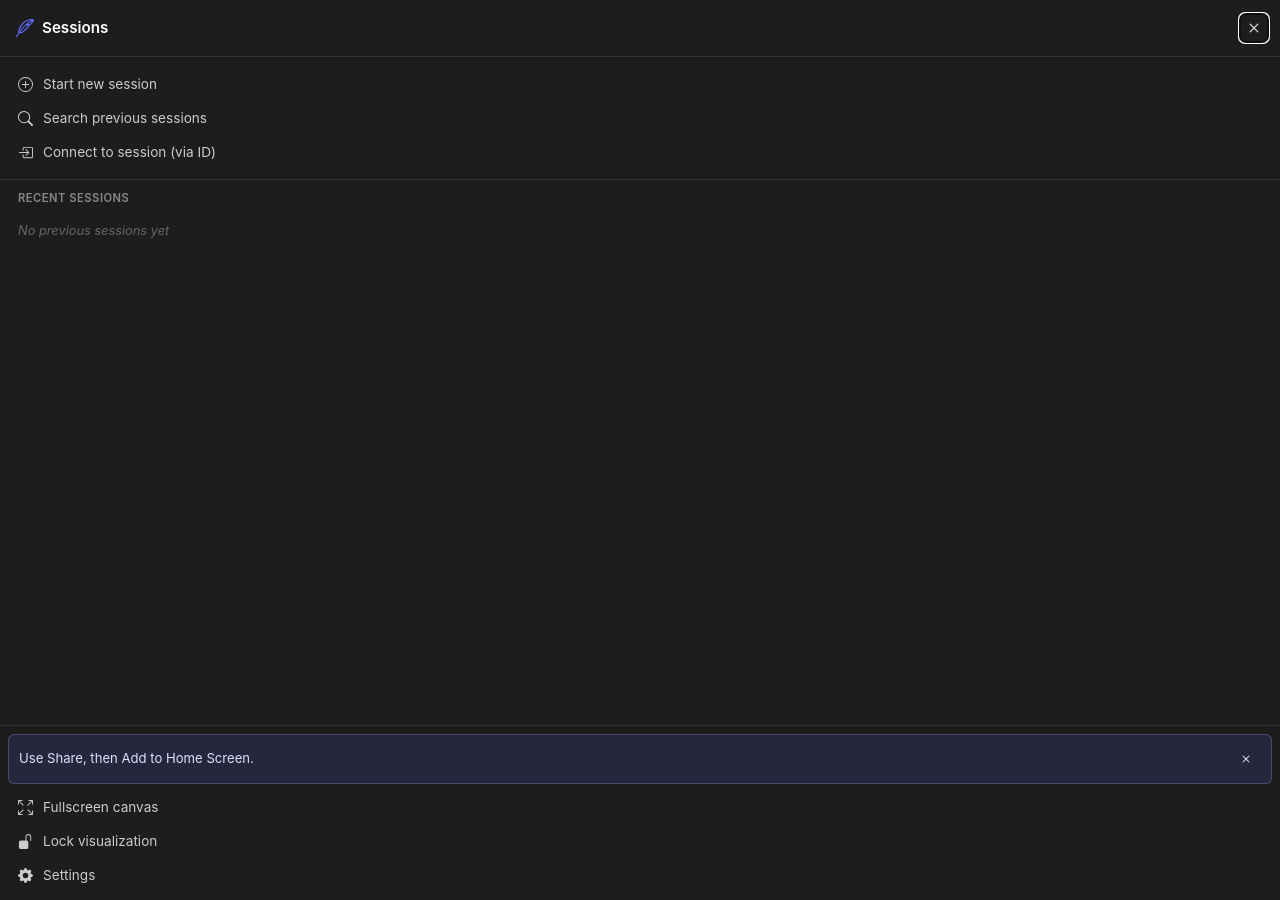
Test: SessionDrawer mobile overlay › shows a one-time iOS Add to Home Screen hint in the mobile menu
Expected: the text "Use Share, then Add to Home Screen." is shown, [19, 750, 254, 766]
Click the button named "Dismiss install hint".
click(1246, 759)  # box [1231, 744, 1261, 774]
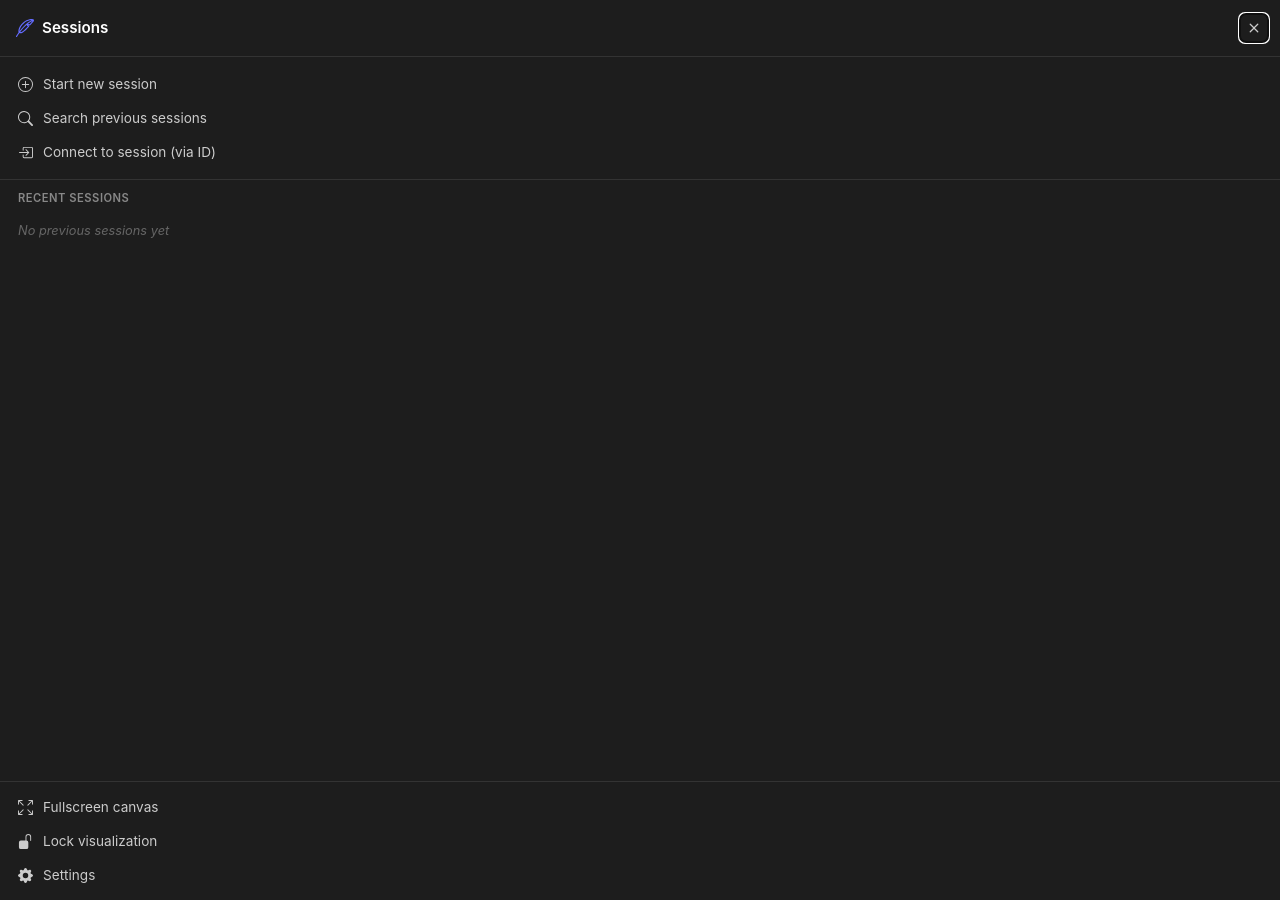
Expected: the text "Use Share, then Add to Home Screen." is gone
